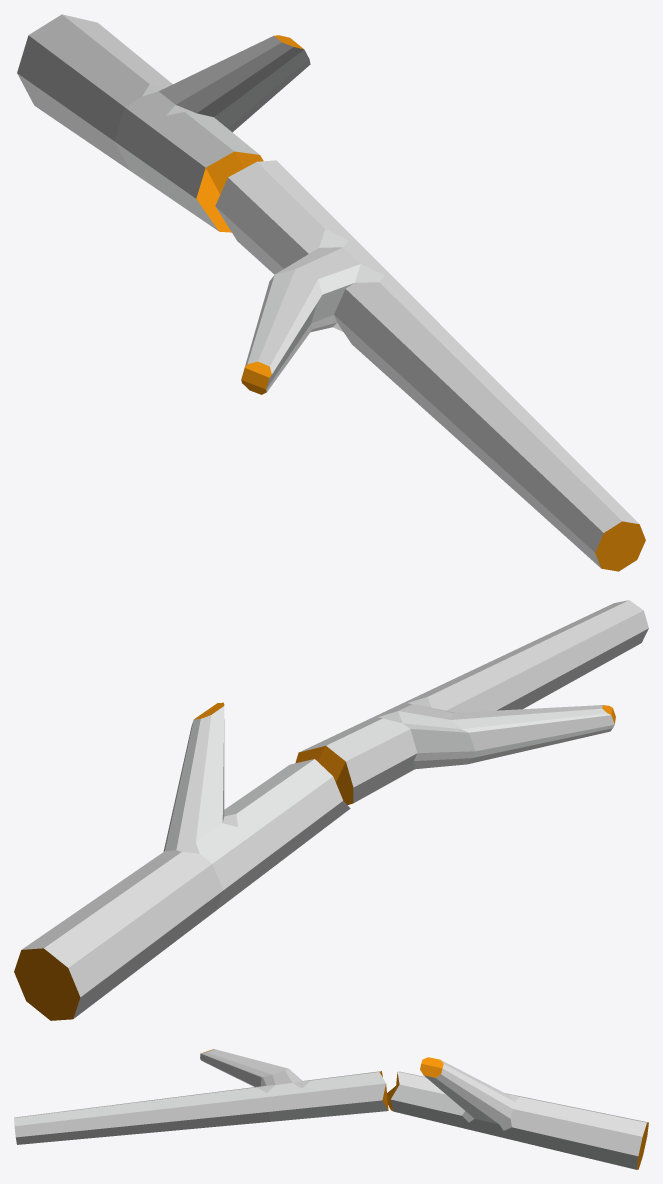
Rendered from Stick_18.fbx.
The picture shows the model from 3 angles, top to bottom: view 1: azimuth 30°, elevation 25°; view 2: azimuth 150°, elevation 25°; view 3: azimuth 270°, elevation 25°; orthographic projection. The views are drawn at different scales.
Visible parts, largest first — view 1: Circle.231, Circle.229; view 2: Circle.229, Circle.231; view 3: Circle.231, Circle.229.
Part boxes in pixels (x1,y1,x2,y2): Circle.231: (215,160,645,571); Circle.229: (17,14,310,232); Circle.229: (14,702,350,1020); Circle.231: (295,600,648,805); Circle.231: (14,1049,388,1144); Circle.229: (387,1057,648,1169).
Bounding box in the file's own units: 11.25 × 8.1 × 41.39.
